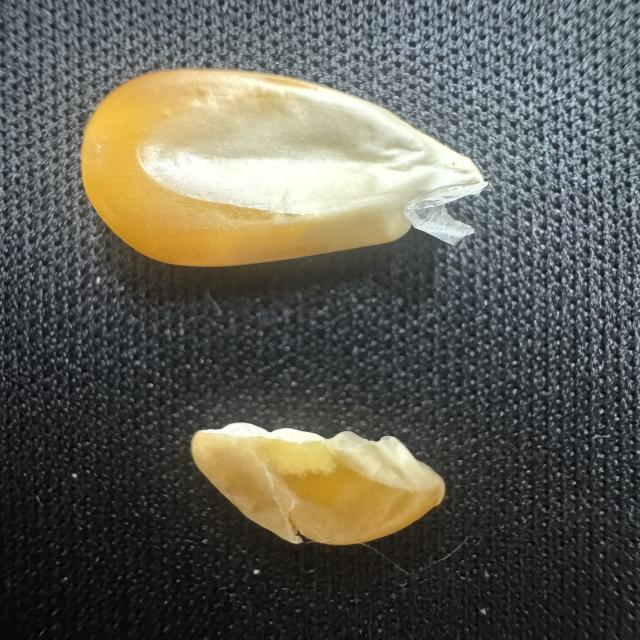Bad-Seed: (172, 408, 463, 559)
Good-Seed: (70, 67, 492, 275)
